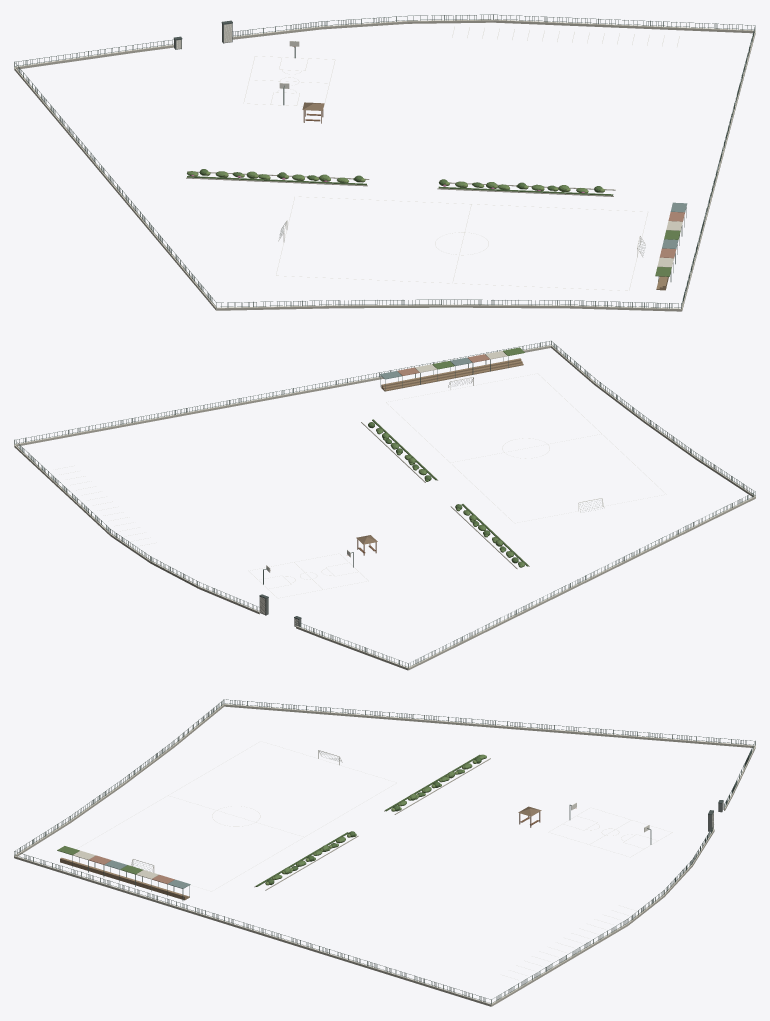
3 views of the same model, one above another, from view 1: azimuth 30°, elevation 25°; view 2: azimuth 150°, elevation 25°; view 3: azimuth 270°, elevation 25° (orthographic). The views are drawn at different scales.
Parts seen in each view (by area): view 1: prop_boundary-fence, prop_flowerbeds, prop_stand-colour-canopy, prop_field-lines; view 2: prop_boundary-fence, prop_flowerbeds, prop_east-open-stand, prop_stand-colour-canopy; view 3: prop_boundary-fence, prop_flowerbeds, prop_stand-colour-canopy, prop_east-open-stand.
Part boxes in pixels (bbox=[...]): prop_boundary-fence: bbox=[14, 14, 755, 311]; prop_flowerbeds: bbox=[186, 169, 615, 196]; prop_stand-colour-canopy: bbox=[655, 202, 687, 281]; prop_field-lines: bbox=[276, 196, 648, 290]; prop_boundary-fence: bbox=[14, 340, 755, 670]; prop_flowerbeds: bbox=[361, 419, 529, 569]; prop_east-open-stand: bbox=[381, 358, 523, 391]; prop_stand-colour-canopy: bbox=[379, 347, 524, 391]; prop_boundary-fence: bbox=[14, 699, 755, 1006]; prop_flowerbeds: bbox=[254, 754, 490, 890]; prop_stand-colour-canopy: bbox=[57, 846, 190, 900]; prop_east-open-stand: bbox=[60, 857, 189, 900].
Size of the model in its own units: 148 by 4.2 by 154.
